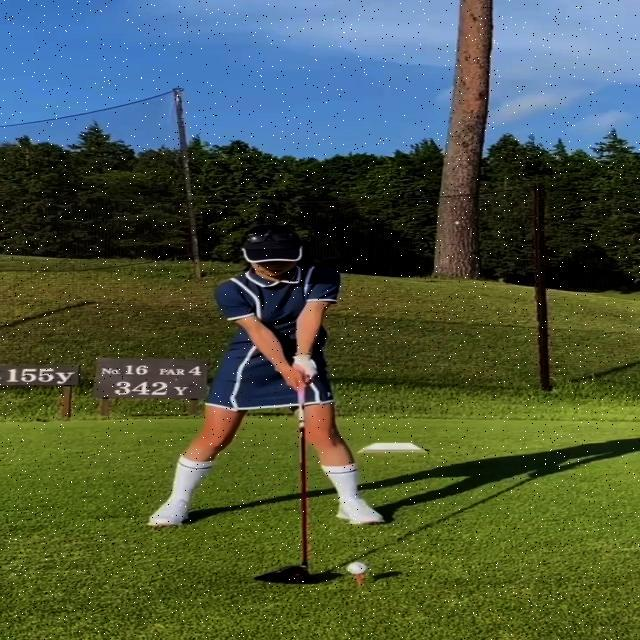golf ball: (346, 562, 369, 574)
golf club-handle: (249, 381, 317, 587)
golf club-head: (255, 564, 315, 585)
